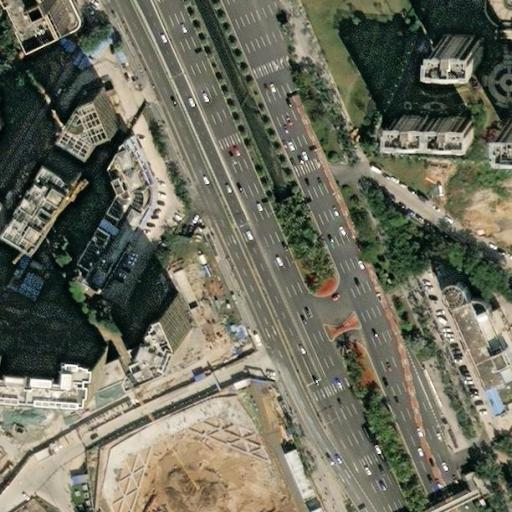building: (69, 135, 141, 280), (442, 284, 512, 414), (6, 156, 77, 242), (138, 300, 187, 369), (80, 96, 130, 150), (388, 116, 474, 140), (276, 450, 311, 506), (433, 32, 487, 59), (25, 0, 69, 31), (127, 347, 147, 371), (495, 352, 512, 373), (430, 174, 445, 194), (296, 501, 316, 512), (506, 112, 512, 139), (476, 311, 488, 323), (335, 94, 348, 105)
